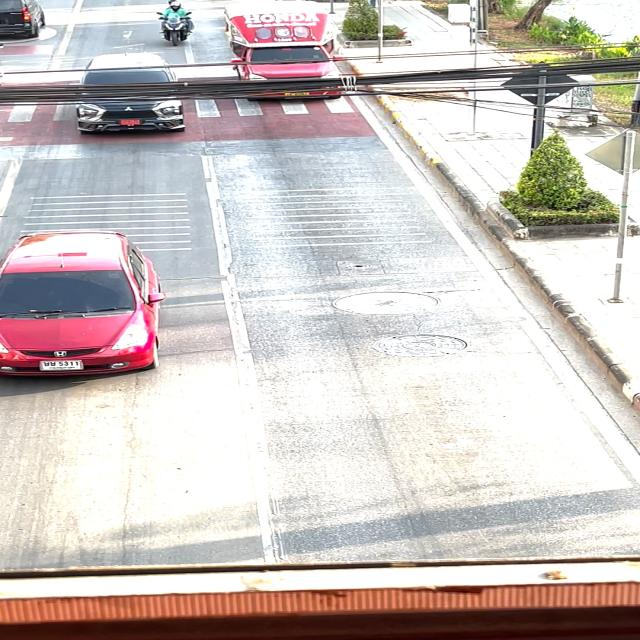car: (0, 222, 178, 385), (215, 1, 392, 112), (75, 46, 182, 146)
